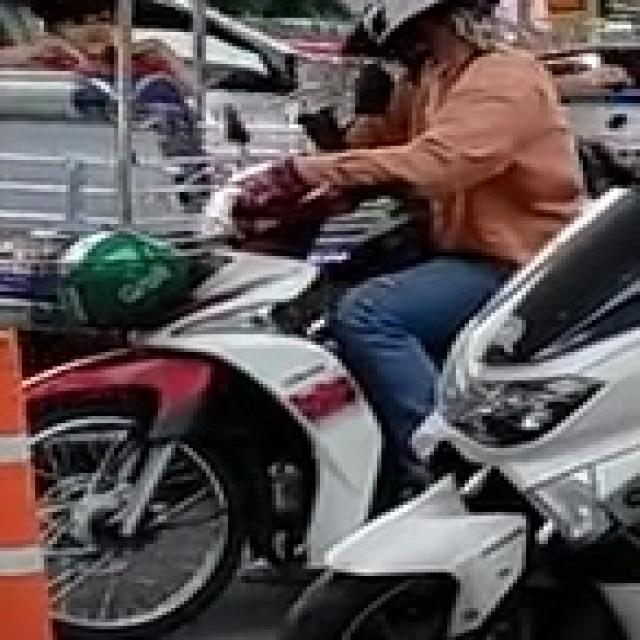door: (0, 324, 57, 636)
helmet: (52, 228, 193, 327), (338, 0, 500, 57)
tyre: (27, 409, 245, 636)
